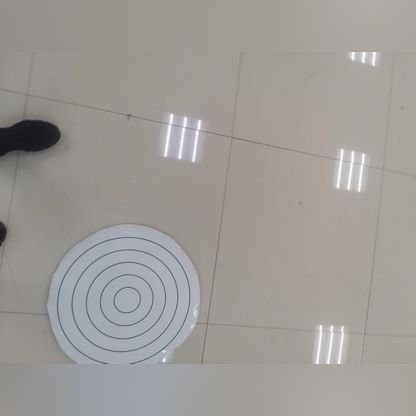circle: (50, 222, 201, 374)
